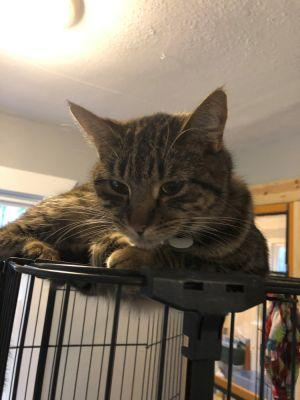bengal: (63, 88, 237, 252)
